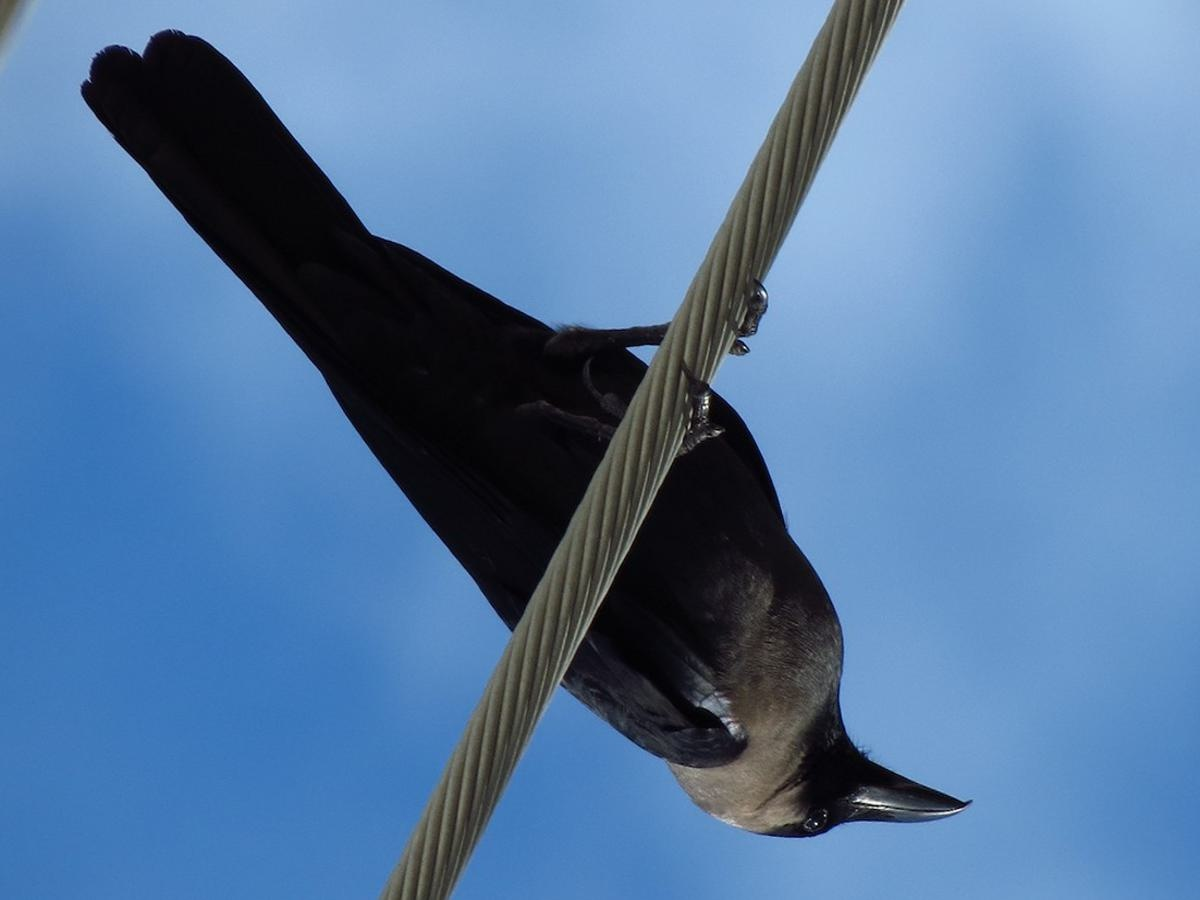crow: (102, 44, 983, 858)
